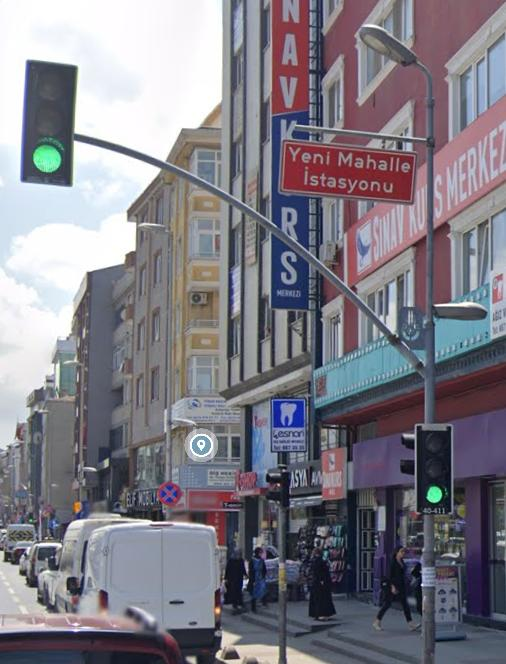greenlight: (29, 58, 74, 179), (416, 420, 452, 510)
